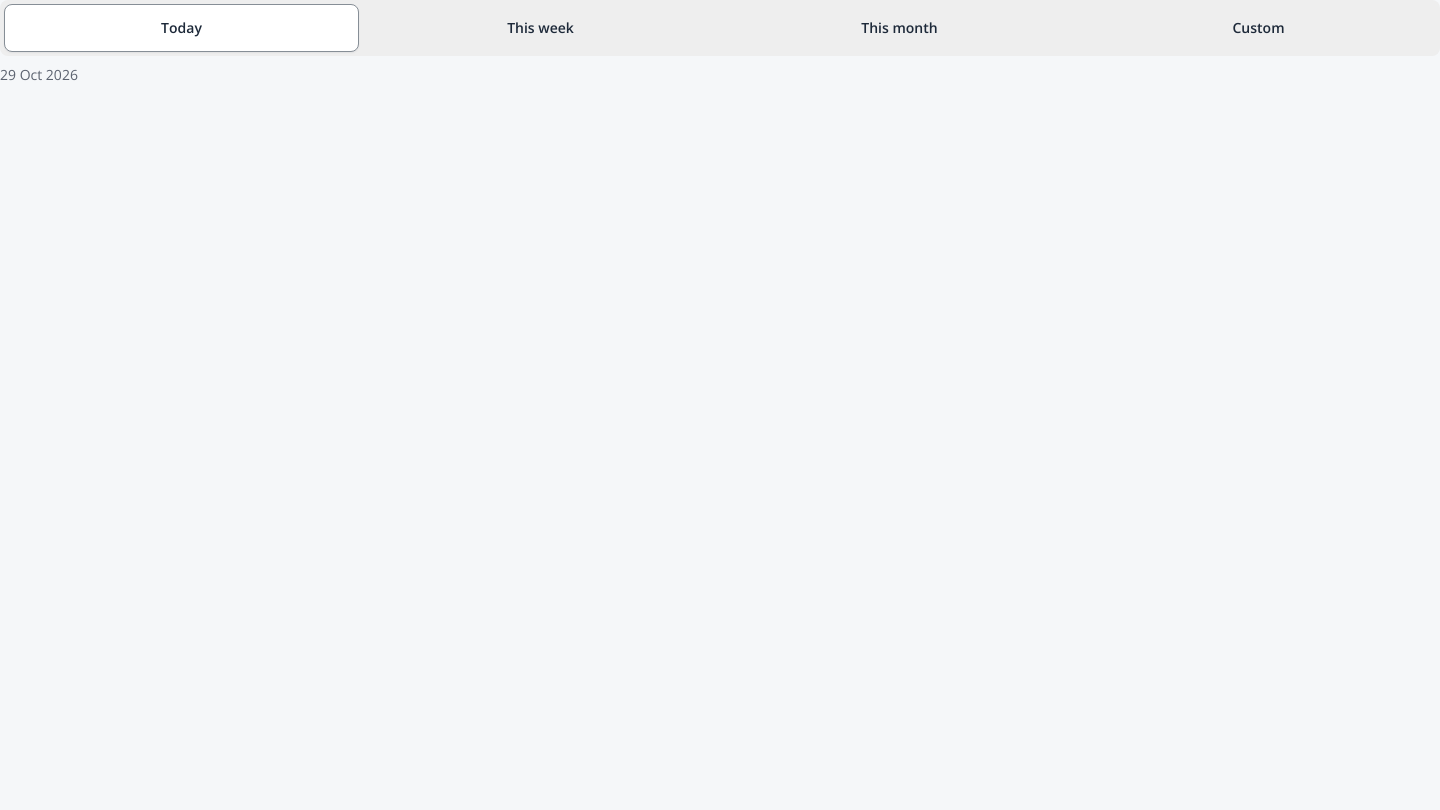
Test: the picker › opens the days in a sheet on Custom and applies them on Show these days
The width and height of the screenshot is (1440, 810).
Click the radio button labelled "Custom" at [1258, 28], box [1081,4,1436,52]
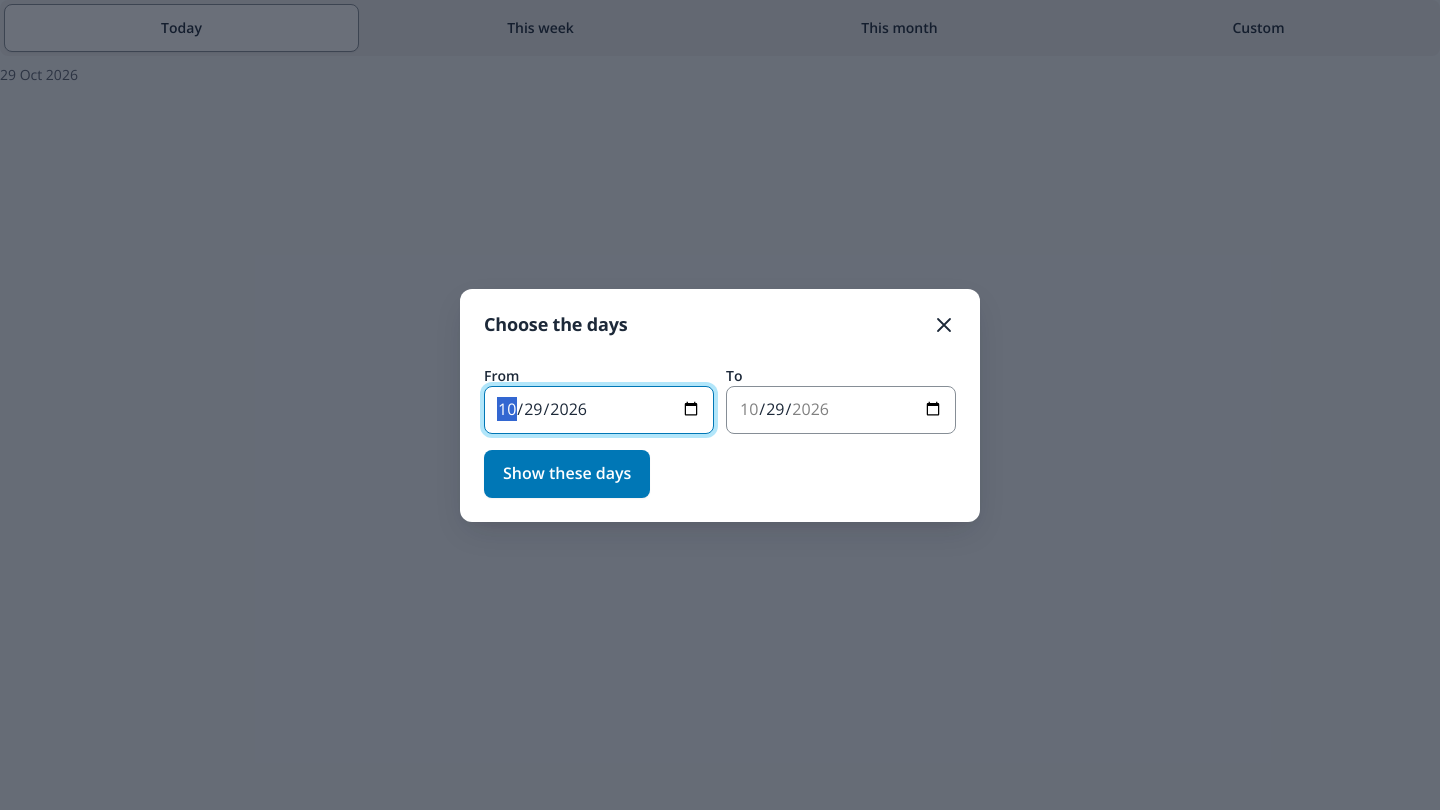
// Sunday 25 Oct: not the Monday of This week, so the days stay Custom.
Type "2026-10-25" into the date field labelled "From" at [599, 410], box [484,386,714,434]
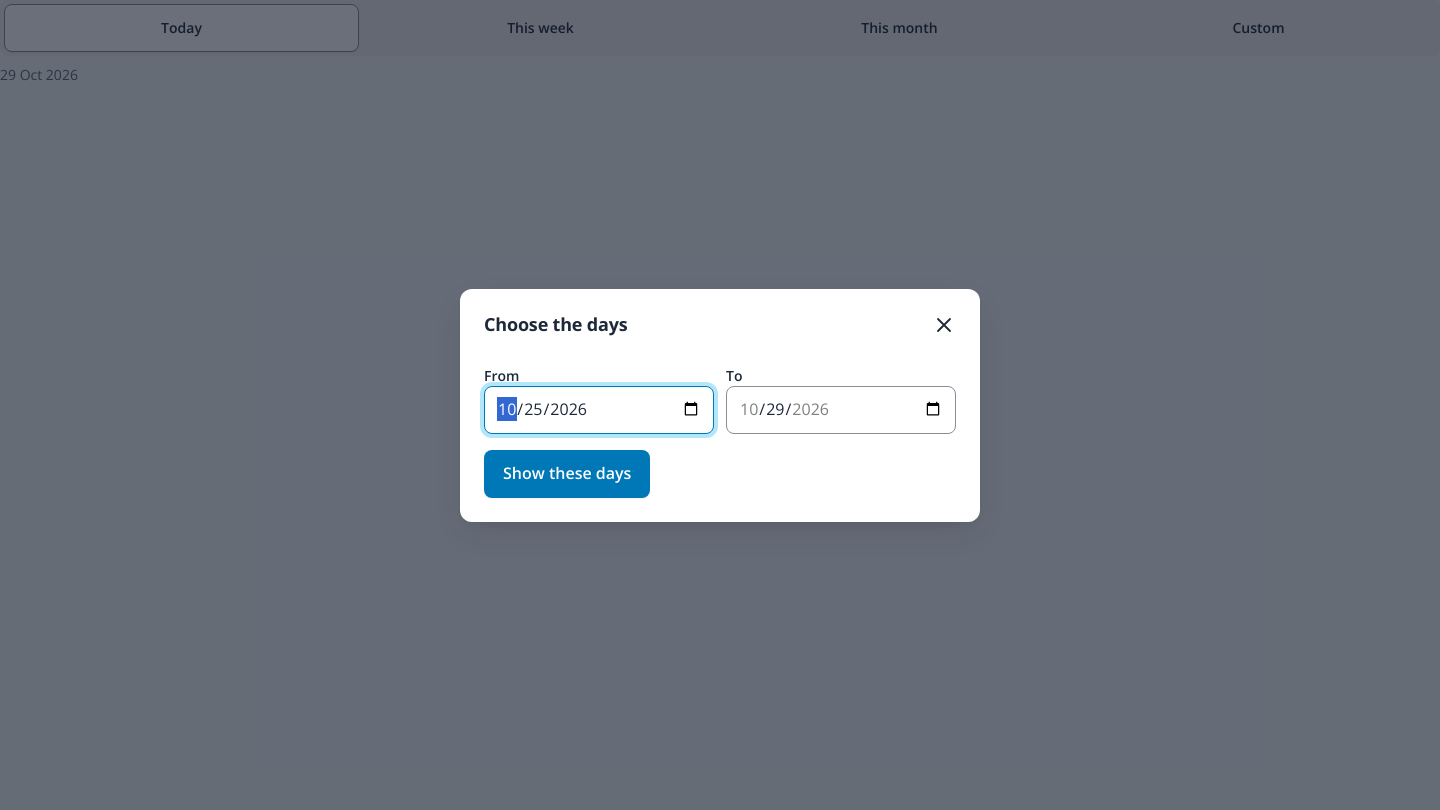
Click the button "Show these days" at [567, 474], box [484,450,650,498]
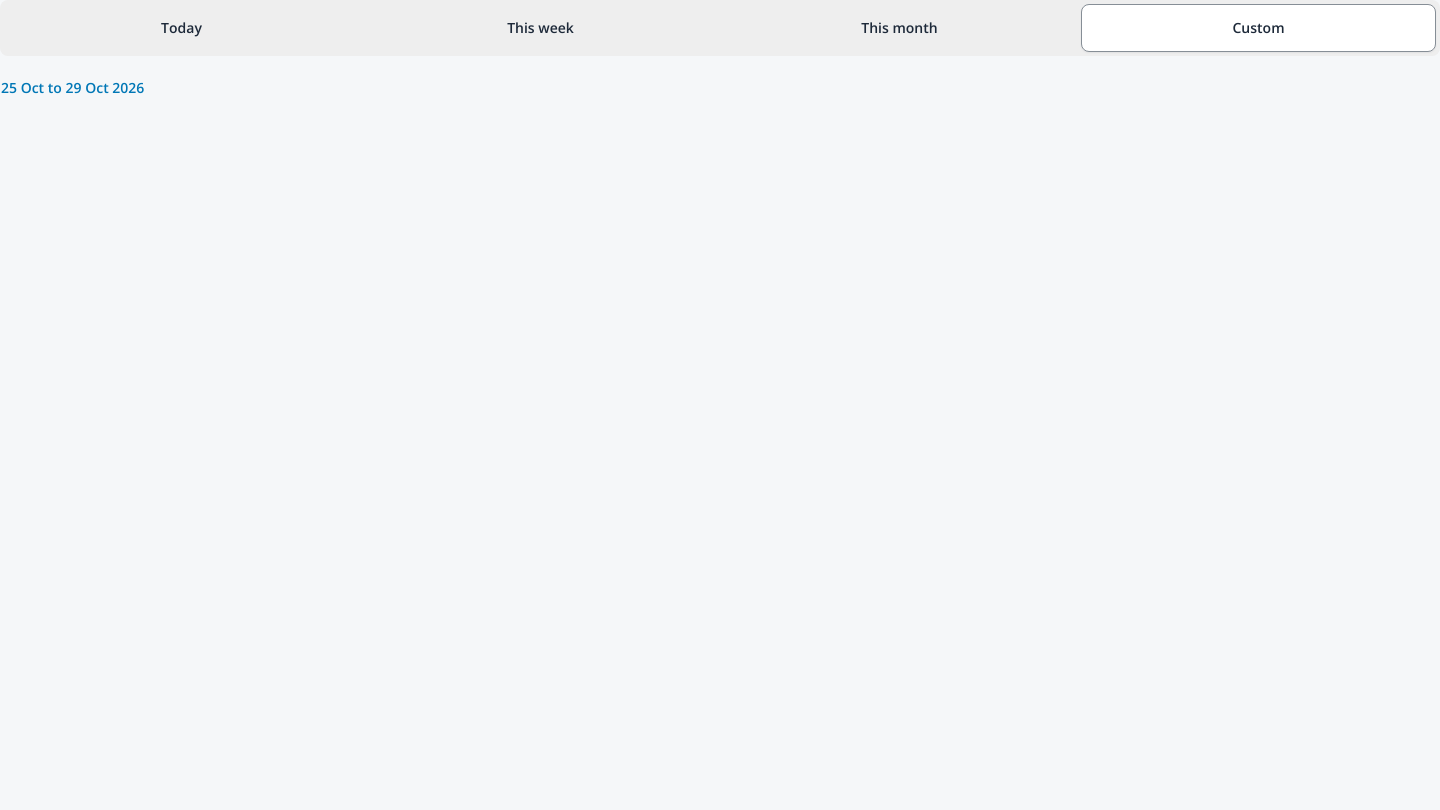
Check: the label labelled "From" is gone
Check: the button with aria-label "25 Oct to 29 Oct 2026. Change the days" is shown, box [0,64,145,112]
